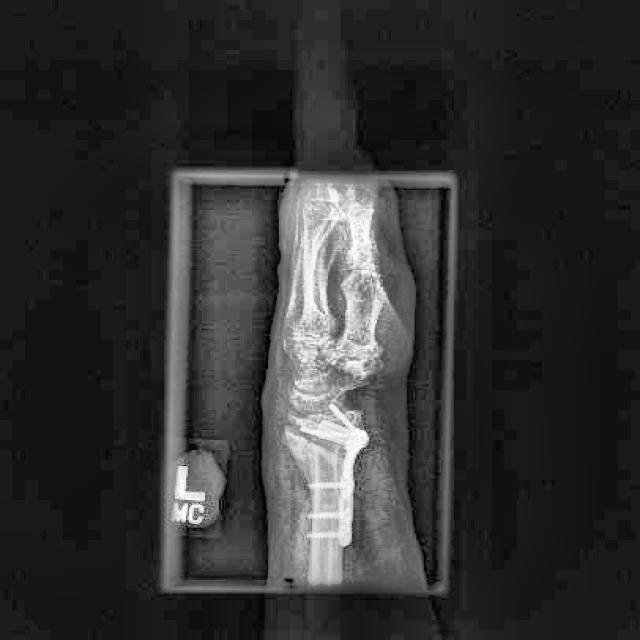wrist positive: (273, 394, 361, 481)
